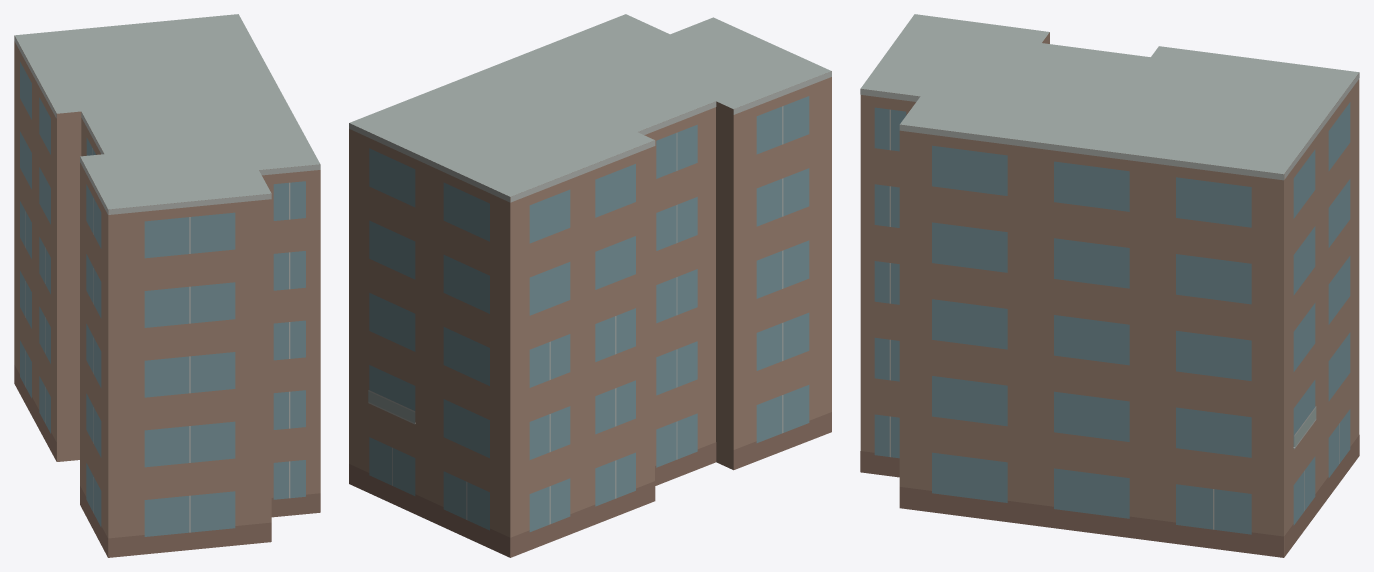
Rendered from survey-upis-32698399.glb.
The picture shows the model from 3 angles, left to right: view 1: azimuth 30°, elevation 25°; view 2: azimuth 150°, elevation 25°; view 3: azimuth 270°, elevation 25°; orthographic projection. The views are drawn at different scales.
Visible parts, largest first — view 1: survey-upis-32698399.tmp; view 2: survey-upis-32698399.tmp; view 3: survey-upis-32698399.tmp.
Part boxes in pixels (x1,y1,x2,y2): survey-upis-32698399.tmp: [14, 14, 320, 557]; survey-upis-32698399.tmp: [349, 14, 831, 557]; survey-upis-32698399.tmp: [860, 14, 1359, 557].
Size of the model in its own units: 13.71 by 15.3 by 18.05.
